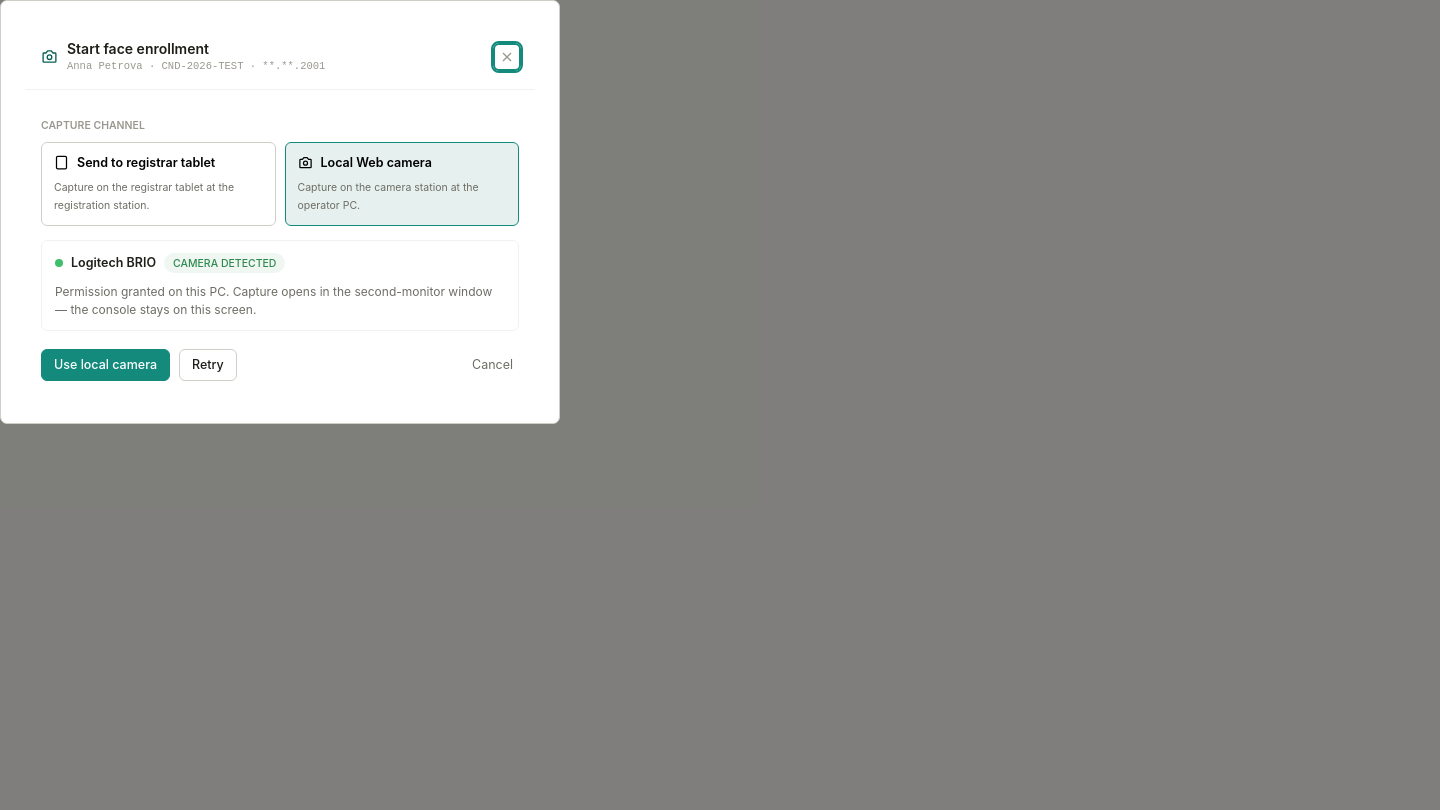
it: StartEnrollmentDialog › disables Send to registrar when registrar is offline (with visible reason in title)
Click the tab "Send to registrar tablet" at (158, 184), box [41, 142, 276, 226]
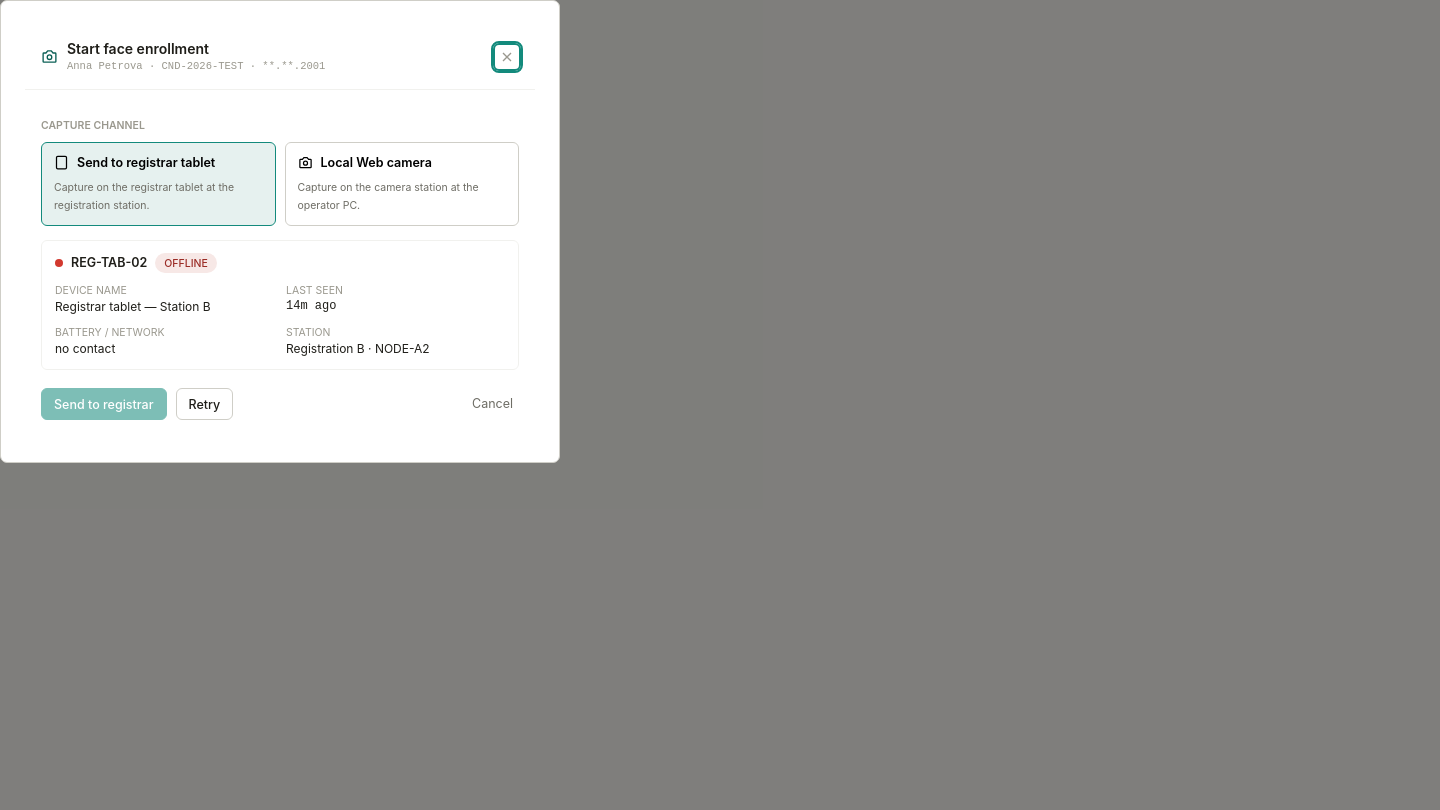
Expected: the button "Send to registrar" is disabled, [41, 388, 166, 420]
Expected: the text "Offline" is shown, [155, 253, 217, 273]
